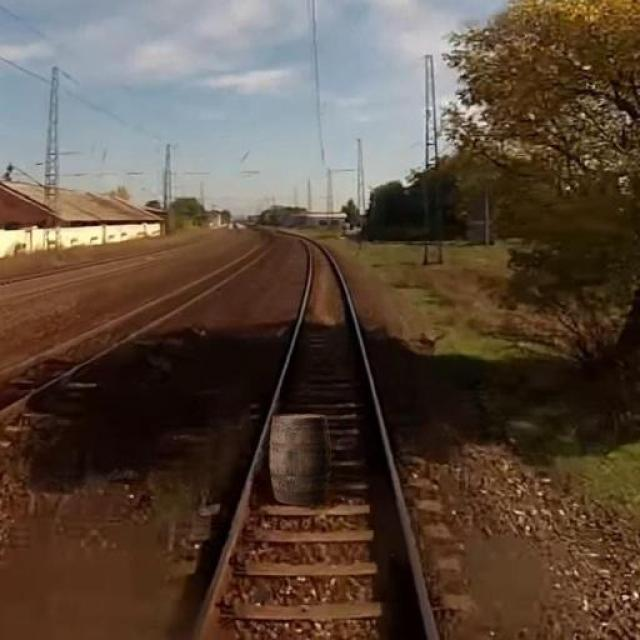Other_objects: (267, 410, 334, 510)
